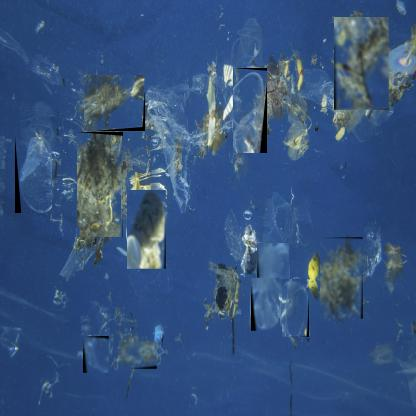waste: (334, 17, 390, 111), (78, 132, 126, 238), (320, 237, 364, 320), (84, 75, 146, 132), (127, 190, 167, 270), (233, 68, 268, 154), (15, 138, 53, 216), (257, 243, 290, 295), (282, 279, 310, 338), (251, 278, 279, 332), (120, 342, 158, 370), (83, 336, 110, 374)
